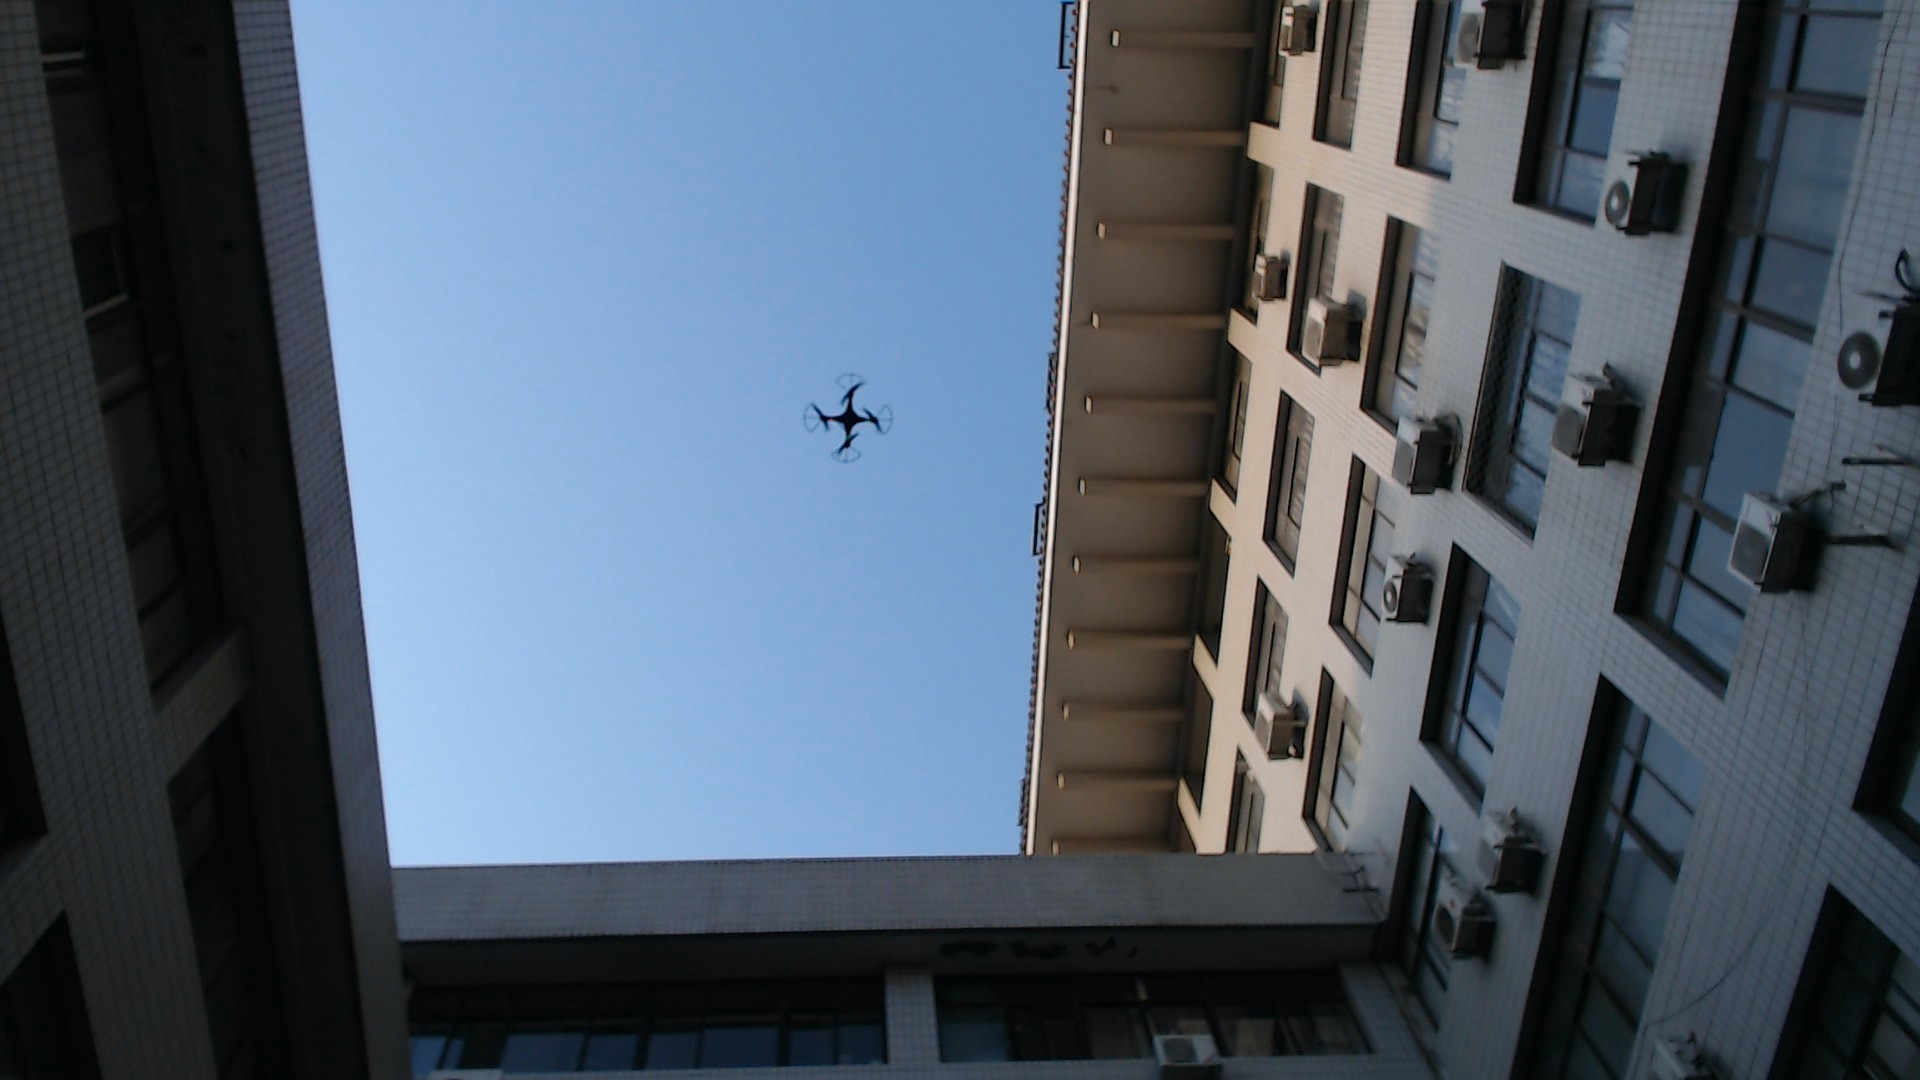drone: (785, 353, 911, 477)
